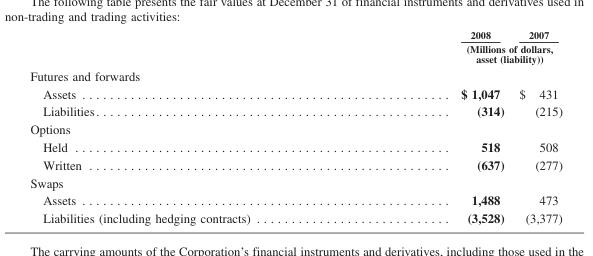table: (29, 28, 561, 224)
table column: (29, 28, 354, 224), (354, 28, 511, 224), (511, 28, 561, 224)
table column header: (29, 28, 561, 66)
table projected row header: (29, 66, 561, 84), (29, 120, 561, 137), (29, 173, 561, 190)
table row: (29, 41, 561, 66), (29, 66, 561, 84), (29, 84, 561, 102), (29, 102, 561, 120), (29, 137, 561, 155), (29, 155, 561, 173), (29, 190, 561, 208), (29, 120, 561, 137), (29, 173, 561, 190), (29, 208, 561, 224), (29, 28, 561, 41)
table spanning cell: (354, 41, 561, 66)
